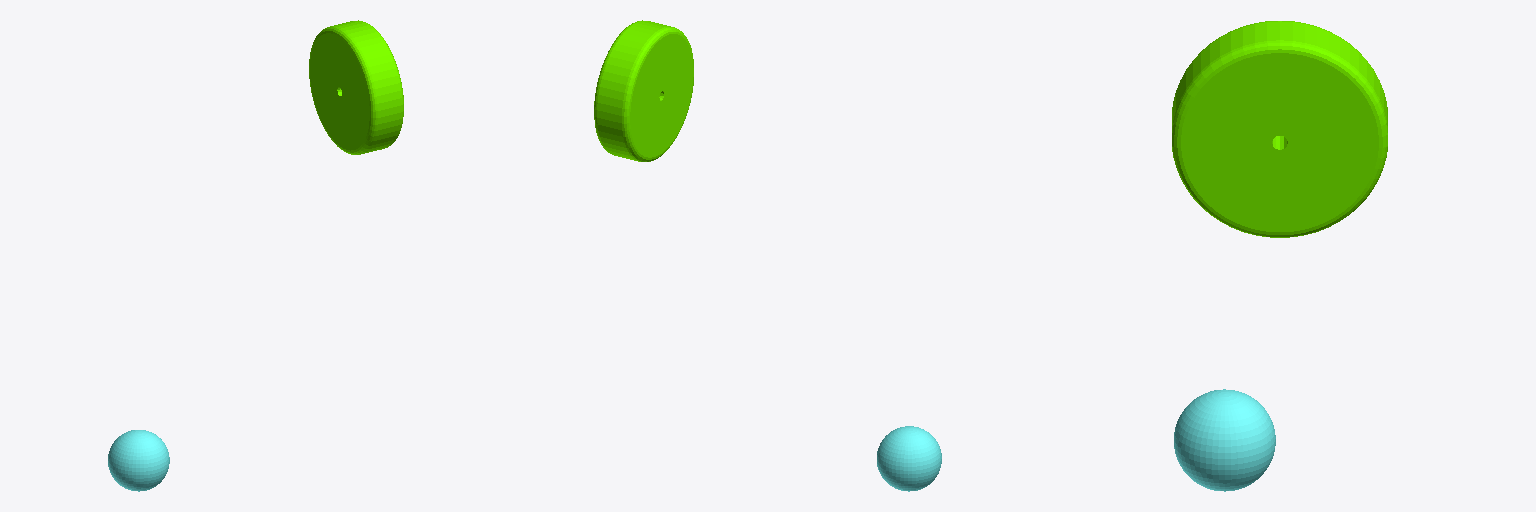
The robot description file, URDF, robot "minibot":
<?xml version="1.0" encoding="utf-8"?>
<robot name="minibot">
  <link name="base">
    <inertial>
      <origin xyz="0.0390947780640948 0.0485038489028258 0.190832229515931" rpy="0 0 0" />
      <mass value="0.00112497656106423" />
      <inertia ixx="6.48286502836828E-06" ixy="1.03232140446618E-21" ixz="3.07702661456495E-10" iyy="1.01708233946637E-05" iyz="4.2881042954749E-21" izz="7.43788023650954E-06" />
    </inertial>
    <visual>
      <origin xyz="0 0 0" rpy="0 0 0" />
      <geometry>
        <mesh filename="package://lemon_minibot_core/gazebo/minibot_Exported/minibot/visualSTL/base.STL" />
      </geometry>
      <material name="000000">
        <color rgba="0 0 0 1" />
      </material>
    </visual>
    <collision>
      <origin xyz="0 0 0" rpy="0 0 0" />
      <geometry>
        <mesh filename="package://lemon_minibot_core/gazebo/minibot_Exported/minibot/collisionSTL/base.STL" />
      </geometry>
    </collision>
  </link>
  <link name="l_whee">
    <inertial>
      <origin xyz="-0.01 -1.5556132770822E-15 1.27675647831893E-15" rpy="0 0 0" />
      <mass value="0.0714319766280304" />
      <inertia ixx="0" ixy="0" ixz="0" iyy="0" iyz="0" izz="0" />
    </inertial>
    <visual>
      <origin xyz="0.0930787246278284 0.0033654103350226 -0.278465383032101" rpy="0 0 0" />
      <geometry>
        <mesh filename="package://lemon_minibot_core/gazebo/minibot_Exported/minibot/visualSTL/l_whee.STL" />
      </geometry>
      <material name="00FF00">
        <color rgba="0 1 0 1" />
      </material>
    </visual>
    <collision>
      <origin xyz="0.0930787246278284 0.0033654103350226 -0.278465383032101" rpy="0 0 0" />
      <geometry>
        <mesh filename="package://lemon_minibot_core/gazebo/minibot_Exported/minibot/collisionSTL/l_whee.STL" />
      </geometry>
    </collision>
  </link>
  <link name="r_wheel">
    <inertial>
      <origin xyz="-0.00999999999999998 -2.12763834328555E-15 2.38697950294409E-15" rpy="0 0 0" />
      <mass value="0.0714319766280304" />
      <inertia ixx="0" ixy="0" ixz="0" iyy="0" iyz="0" izz="0" />
    </inertial>
    <visual>
      <origin xyz="-0.191268280756042 0.00336541033502103 -0.278465383032099" rpy="0 0 0" />
      <geometry>
        <mesh filename="package://lemon_minibot_core/gazebo/minibot_Exported/minibot/visualSTL/r_wheel.STL" />
      </geometry>
      <material name="00FF80">
        <color rgba="0.501960784313725 1 0 1" />
      </material>
    </visual>
    <collision>
      <origin xyz="-0.191268280756042 0.00336541033502103 -0.278465383032099" rpy="0 0 0" />
      <geometry>
        <mesh filename="package://lemon_minibot_core/gazebo/minibot_Exported/minibot/collisionSTL/r_wheel.STL" />
      </geometry>
    </collision>
  </link>
  <link name="ball">
    <inertial>
      <origin xyz="0.0415944103026851 -0.0206481340979434 0.105829165165202" rpy="0 0 0" />
      <mass value="0.0171572846788051" />
      <inertia ixx="0" ixy="0" ixz="0" iyy="0" iyz="0" izz="0" />
    </inertial>
    <visual>
      <origin xyz="0 0 0" rpy="0 0 0" />
      <geometry>
        <mesh filename="package://lemon_minibot_core/gazebo/minibot_Exported/minibot/visualSTL/ball.STL" />
      </geometry>
      <material name="FFFF80">
        <color rgba="0.501960784313725 1 1 1" />
      </material>
    </visual>
    <collision>
      <origin xyz="0 0 0" rpy="0 0 0" />
      <geometry>
        <mesh filename="package://lemon_minibot_core/gazebo/minibot_Exported/minibot/collisionSTL/ball.STL" />
      </geometry>
    </collision>
  </link>
  <joint name="base-l_whee" type="continuous">
    <origin xyz="-0.0930787246278284 -0.0033654103350226 0.278465383032101" rpy="0 0 0" />
    <parent link="base" />
    <child link="l_whee" />
    <axis xyz="-1 -5.50460220501117E-15 4.19506831259459E-15" />
    <dynamics damping="0" friction="0" />
  </joint>
  <joint name="base-r_wheel" type="continuous">
    <origin xyz="0.191268280756042 -0.00336541033502103 0.278465383032099" rpy="0 0 0" />
    <parent link="base" />
    <child link="r_wheel" />
    <axis xyz="-1 -5.50460220501117E-15 4.19506831259459E-15" />
    <dynamics damping="0" friction="0" />
  </joint>
  <joint name="base-ball" type="fixed">
    <origin xyz="0 0 0" rpy="0 0 0" />
    <parent link="base" />
    <child link="ball" />
    <axis xyz="0 0 0" />
    <dynamics damping="0" friction="0" />
  </joint>
  <gazebo>
    <plugin name="clock" filename="libgz_clock.so">
      <topic>/gazebo/frc/time</topic>
    </plugin>
  </gazebo>
  <gazebo>
    <plugin name="l_whee; Simple Motor" filename="libgz_dc_motor.so">
      <joint>base-l_whee;</joint>
      <topic>/gazebo/frc/simulator/pwm/1</topic>
      <multiplier>0</multiplier>
    </plugin>
  </gazebo>
  <gazebo>
    <plugin name="r_wheel Simple Motor" filename="libgz_dc_motor.so">
      <joint>base-r_wheel</joint>
      <topic>/gazebo/frc/simulator/pwm/2</topic>
      <multiplier>0</multiplier>
    </plugin>
  </gazebo>
</robot>

--- Render facts (derived) ---
Views: 3 orthographic renders of the robot side by side, from view 1: azimuth 30°, elevation 25°; view 2: azimuth 150°, elevation 25°; view 3: azimuth 270°, elevation 25°.
Robot: minibot — 4 links, 3 joints (2 continuous, 1 fixed); root link base; default pose: every joint at zero.
Visible links, largest first — view 1: r_wheel, ball; view 2: r_wheel, ball; view 3: r_wheel, ball.
Link boxes in pixels (x1,y1,x2,y2): r_wheel: (309, 20, 403, 154); ball: (108, 430, 169, 491); r_wheel: (594, 20, 693, 161); ball: (877, 426, 941, 491); r_wheel: (1172, 21, 1387, 237); ball: (1174, 389, 1275, 491).
Size in the robot's own frame: 0.1656 by 0.0679 by 0.2226 metres.
Meshes: 4 distinct files referenced, 2 mesh visuals loaded (2 binary STL); not drawn: 2 (reference not matched to a file when rendering).